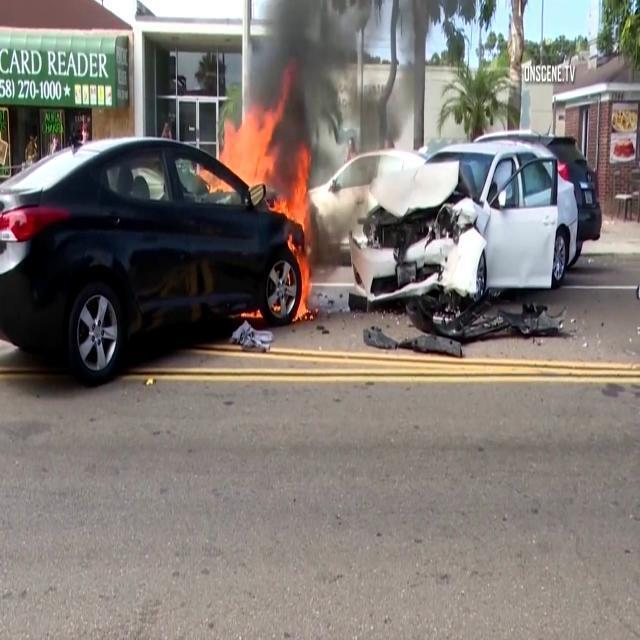Fire: (278, 146, 315, 314), (227, 98, 275, 194)
Smoke: (259, 0, 374, 178)
